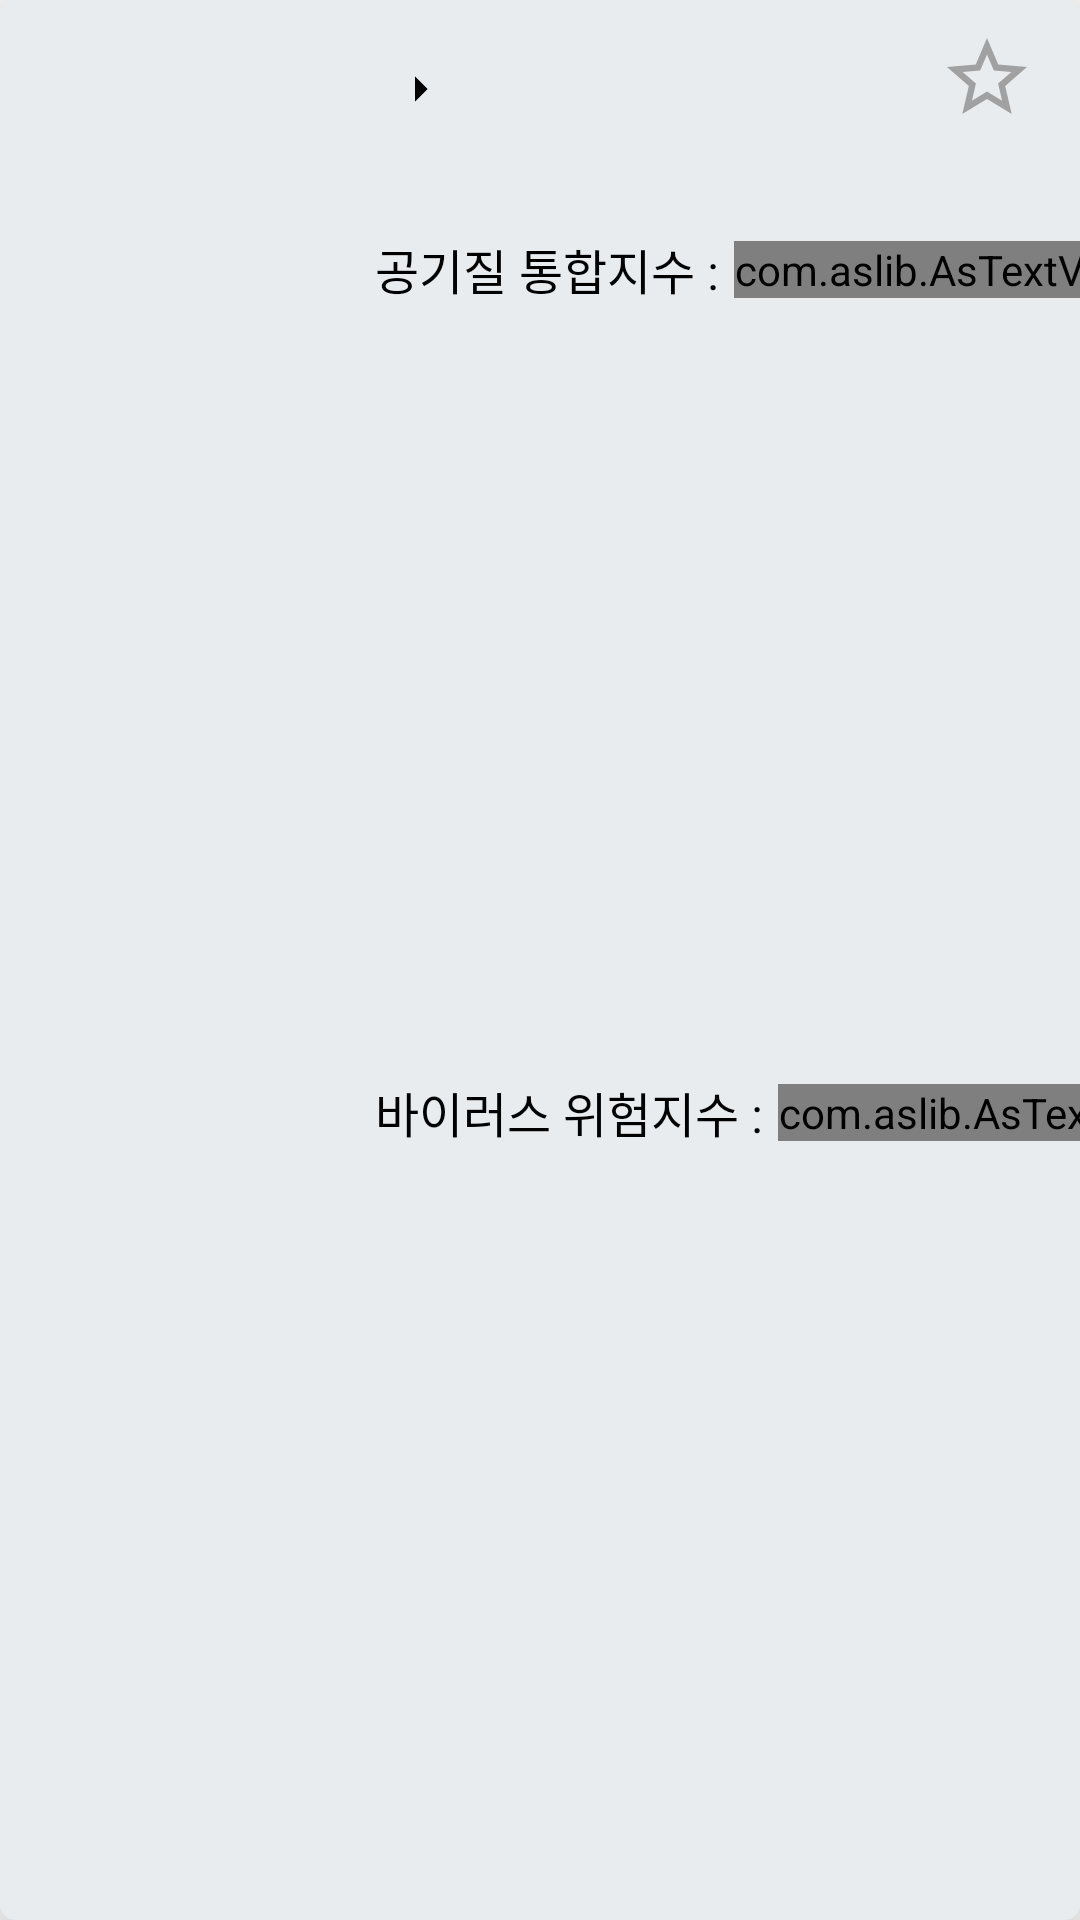

Where to tap for icons on this 1080 x 1920 app screen, as (x=x, y=y):
right arrow: (x=421, y=89)
